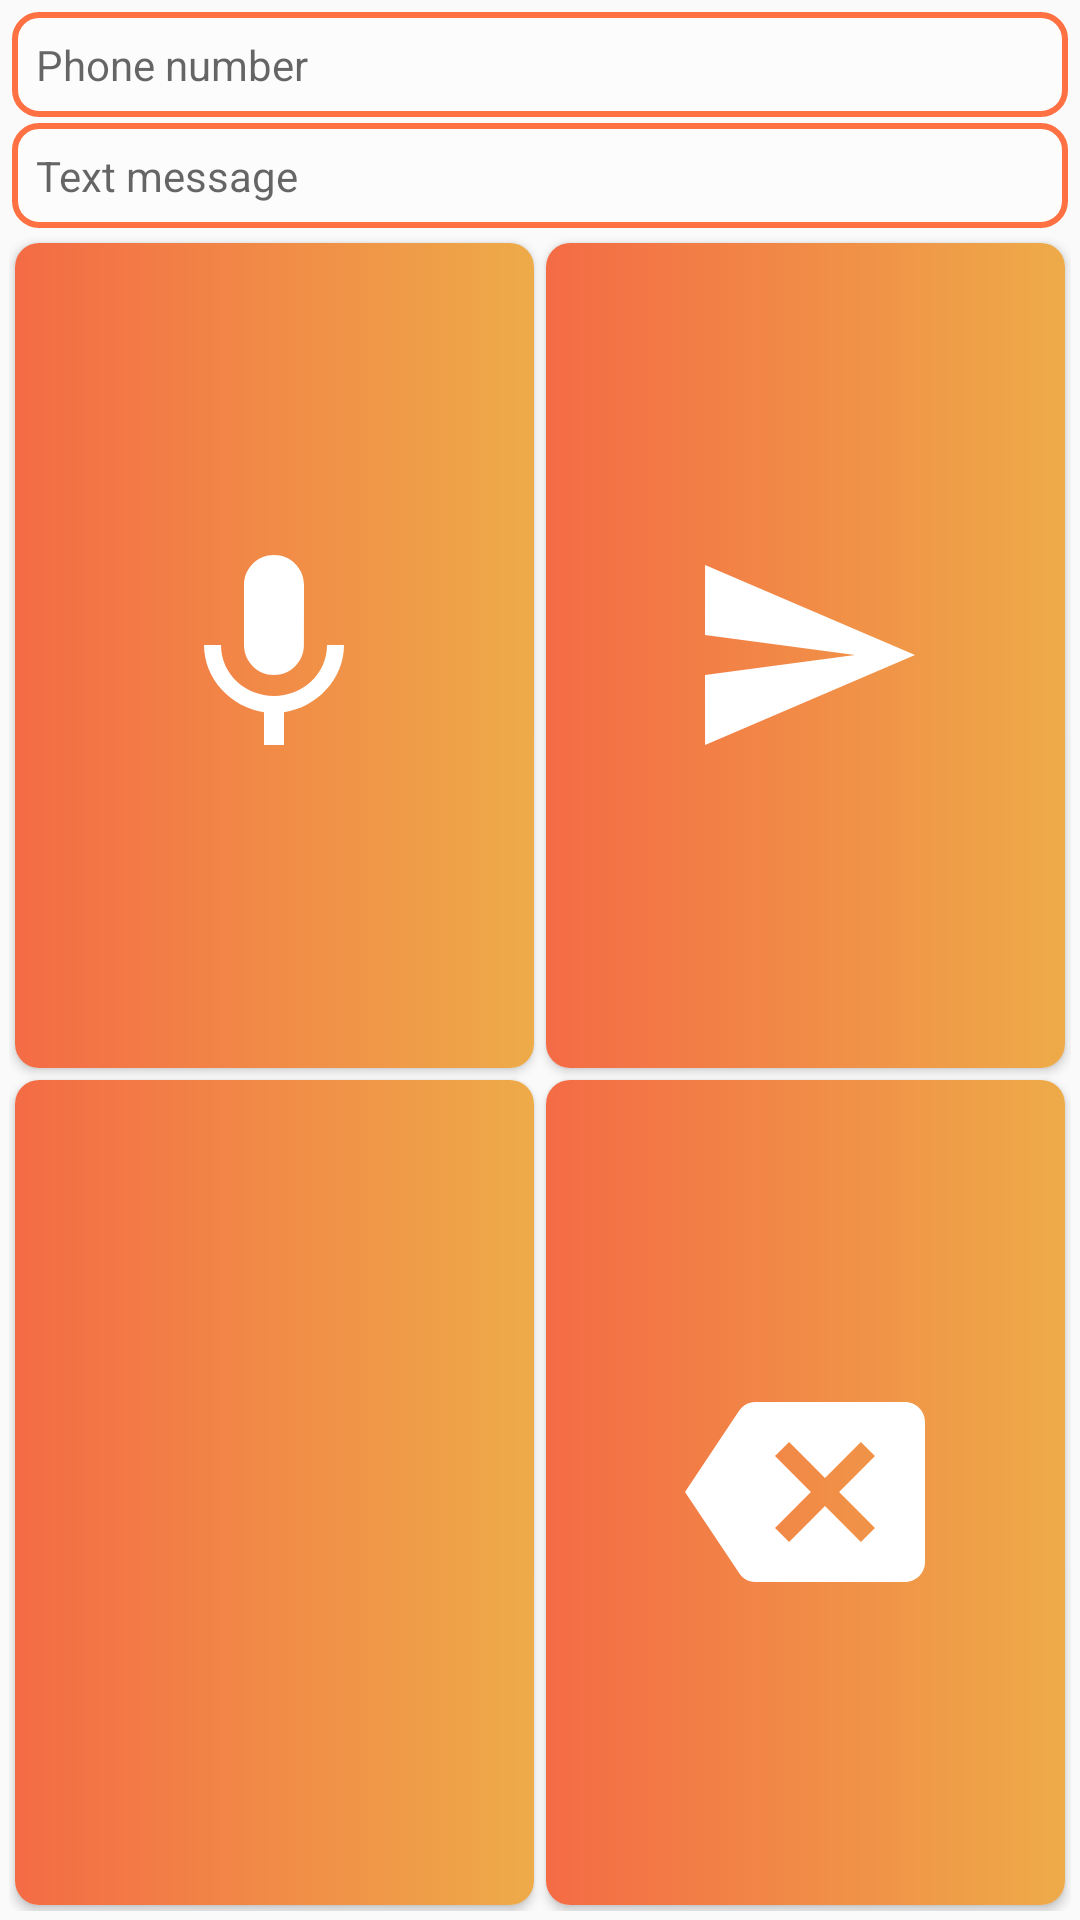

Screen size 1080 x 1920. Icon name, then its center in pixels as (x=x, y=y):
backspace: (x=805, y=1492)
mic: (x=299, y=655)
send: (x=815, y=655)
